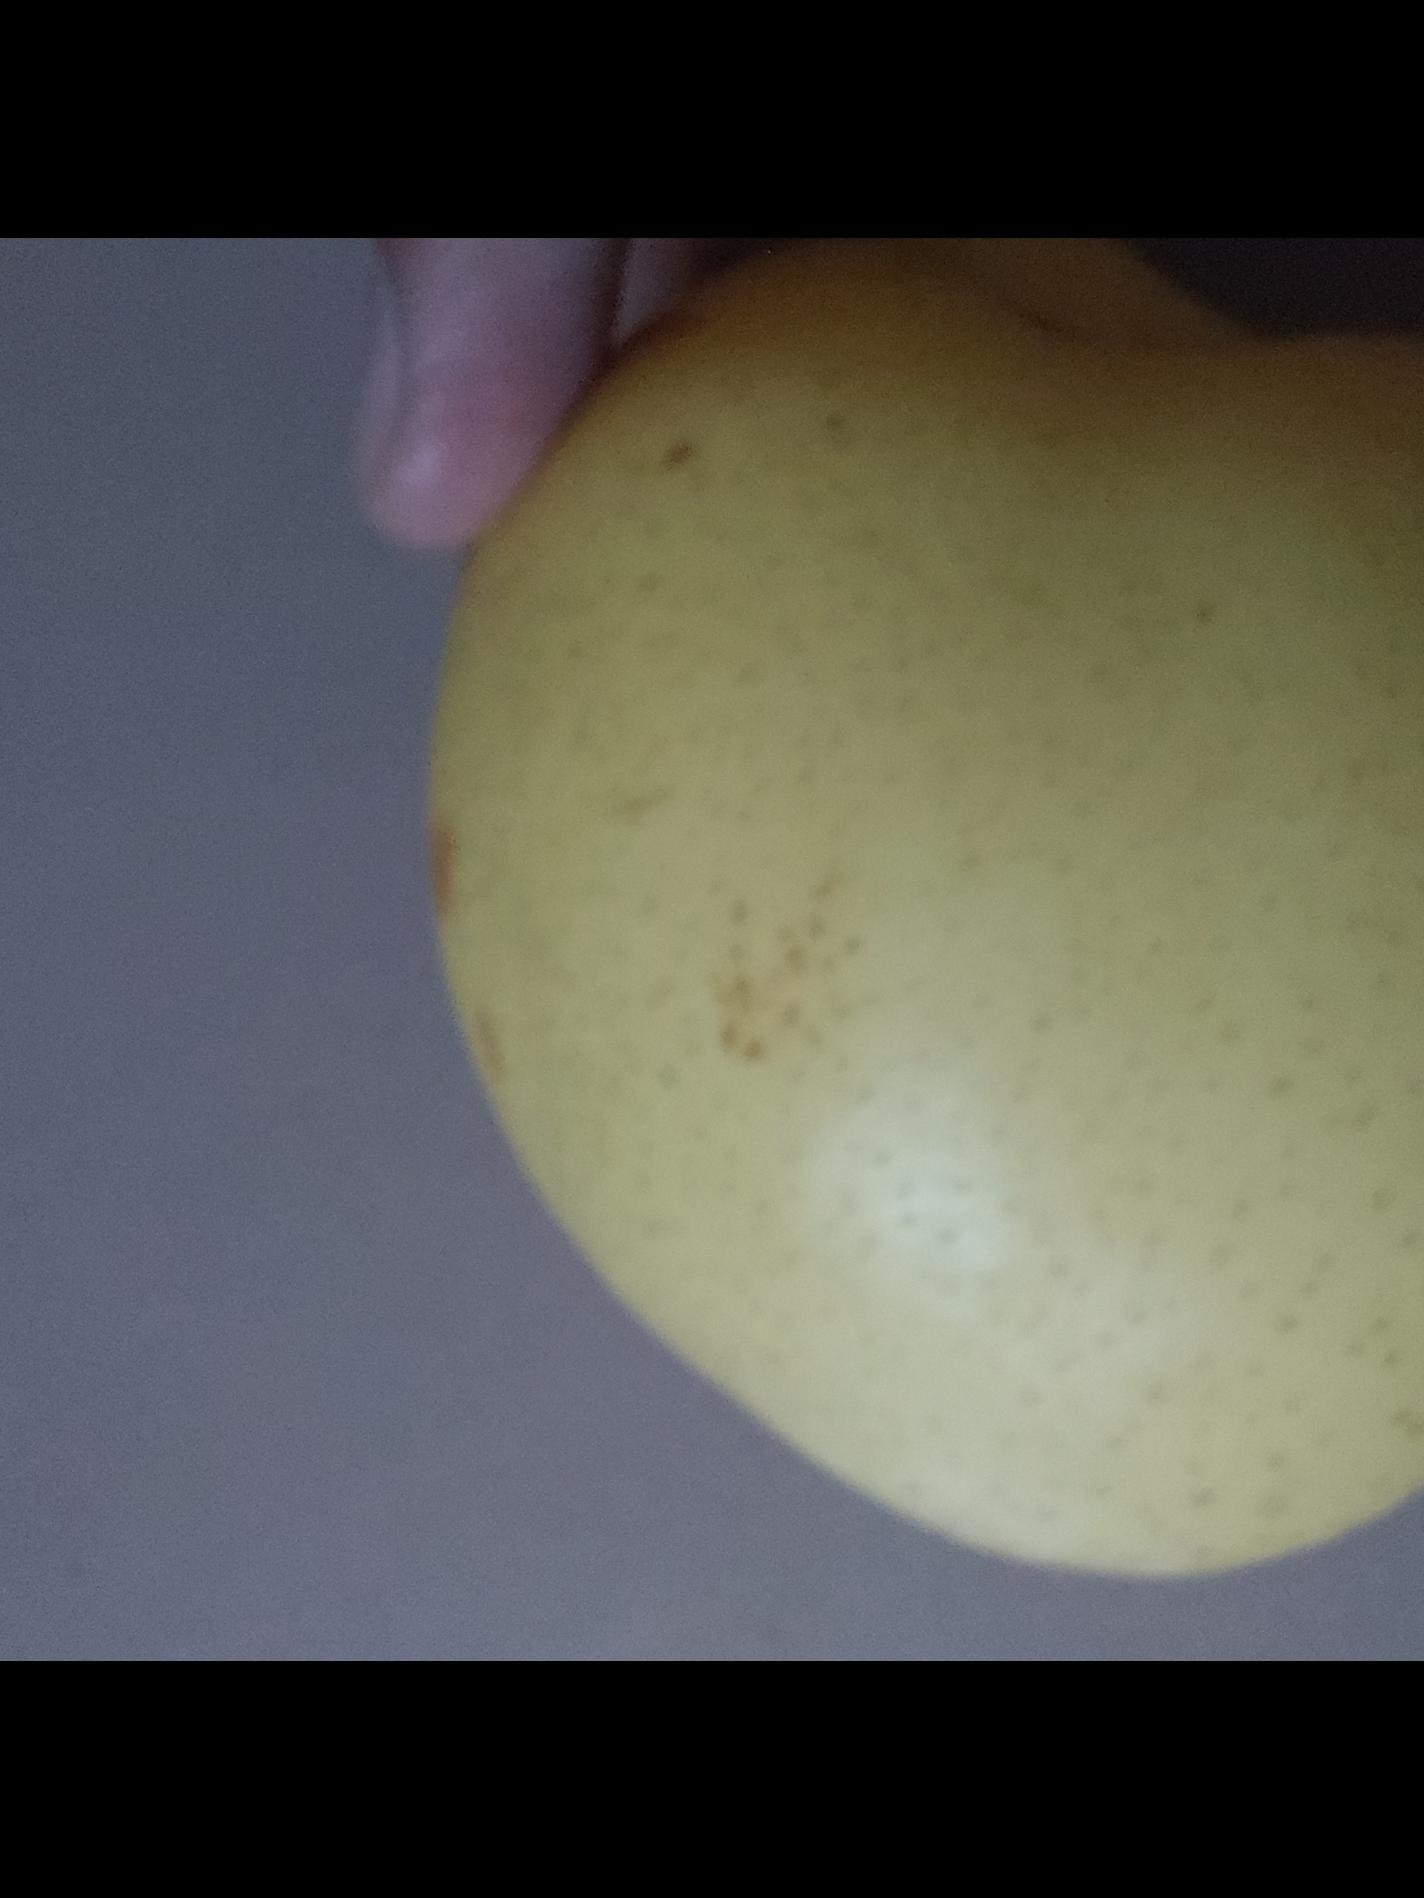Good Pear: (411, 236, 1424, 1591)
